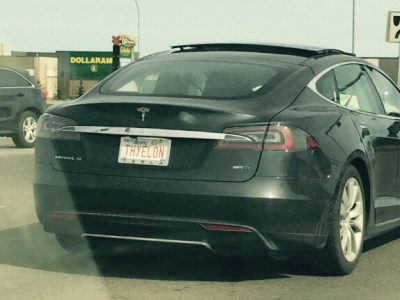license plate: (117, 136, 171, 168)
